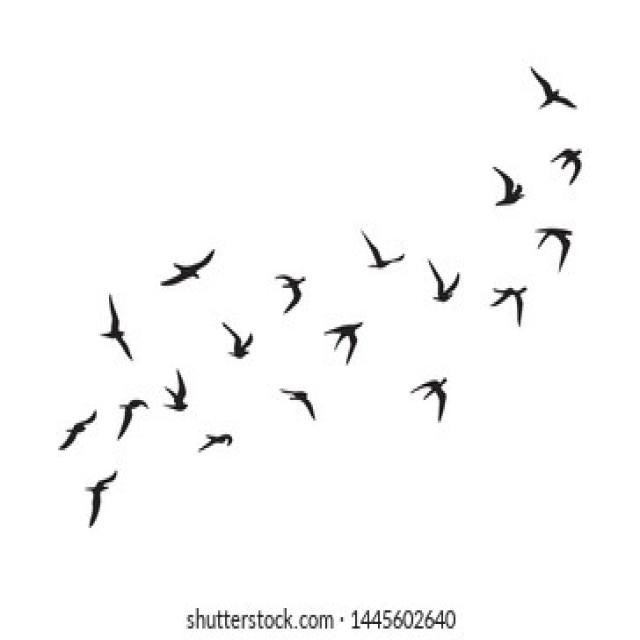bird: (57, 449, 128, 534), (81, 275, 146, 367), (146, 218, 224, 294), (472, 137, 528, 217), (50, 390, 104, 466), (262, 364, 326, 426), (400, 356, 453, 426), (481, 272, 539, 334), (353, 215, 402, 288), (252, 263, 305, 327), (520, 66, 582, 119), (534, 214, 582, 282), (417, 247, 462, 318), (318, 304, 361, 366), (161, 350, 192, 428), (110, 392, 152, 442), (545, 140, 589, 187), (186, 414, 231, 459), (225, 310, 264, 360)
